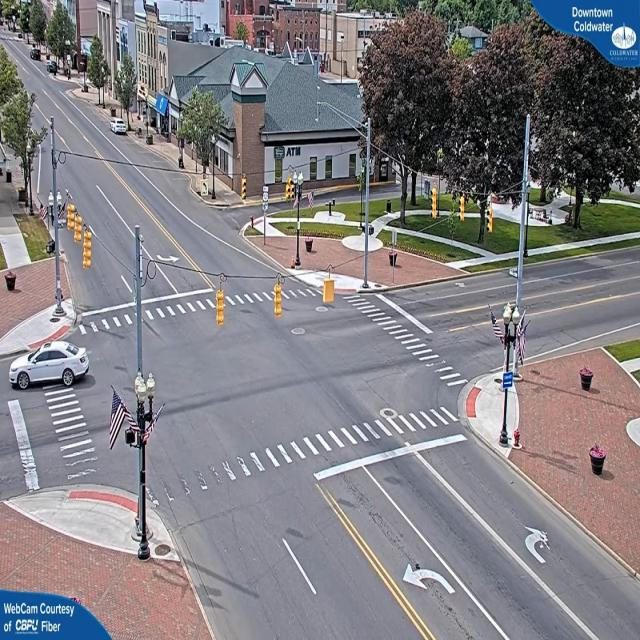car: (11, 342, 89, 392), (112, 122, 130, 138)
